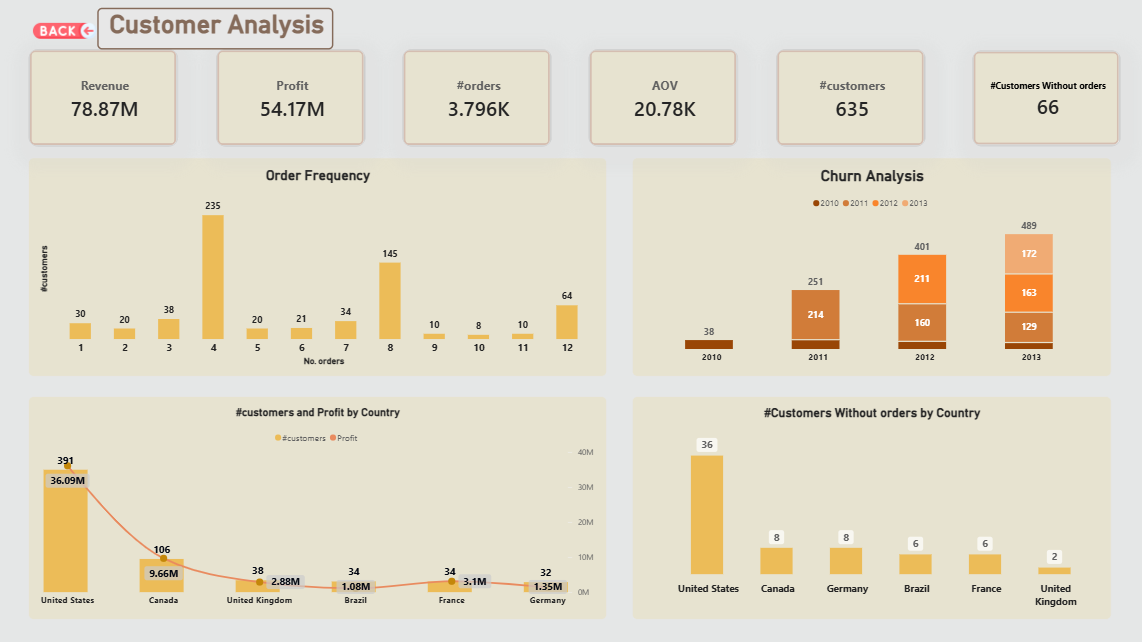

What the dashboard file says about the page in this screenshot:
{"tool":"powerbi","page":{"name":"Customer Analysis","canvas":[1920,1080],"ordinal":5},"visuals":[{"type":"columnChart","title":"Order Frequency","fields":{"Category":["D_Customers.No. orders"],"Y":["Calculations.#customers"]},"box":[54.3,260.6,951.9,360.1],"z":0},{"type":"columnChart","title":"Churn Analysis","fields":{"Category":["Calendar.Year"],"Series":["D_Customers.First order"],"Y":["Calculations.#customers"]},"box":[1047.8,260.6,789,360.1],"z":1000},{"type":"lineClusteredColumnComboChart","title":"#customers and Profit by Country","fields":{"Category":["D_Customers.CountryName"],"Y":["Calculations.#customers"],"Y2":["Calculations.Profit"]},"box":[54.3,655.1,951.9,367.4],"z":2000},{"type":"lineStackedColumnComboChart","title":"#Customers Without orders by Country","fields":{"Category":["D_Customers.CountryName"],"Y":["Calculations.#Customers Without orders"]},"box":[1047.8,655.1,789,367.4],"z":3000},{"type":"cardVisual","fields":{"Data":["Calculations.Revenue"]},"box":[54.3,83.2,246.1,161.1],"z":4000},{"type":"cardVisual","fields":{"Data":["Calculations.AOV"]},"box":[976.1,83.2,246.1,161.1],"z":5000},{"type":"cardVisual","fields":{"Data":["Calculations.#customers"]},"box":[1283.4,83.2,246.1,161.1],"z":6000},{"type":"cardVisual","fields":{"Data":["Calculations.#Customers Without orders"]},"box":[1607.6,84.4,244.9,158.5],"z":7000},{"type":"cardVisual","fields":{"Data":["Calculations.Profit"]},"box":[361.6,83.2,246.1,161.1],"z":8000},{"type":"cardVisual","fields":{"Data":["Calculations.#orders"]},"box":[668.9,83.2,246.1,161.1],"z":9000},{"type":"textbox","title":"Customer Analysis","box":[166.5,14.5,389.1,68.8],"z":10000},{"type":"image","box":[0,0,226.2,105],"z":10001}]}

Visuals, with their boxes in screenshot pixels (x1, y1, x2, y2), scaled from the page's 1920x1080 canvas onto the 1142x642 screenshot:
"Order Frequency" columnChart: (32, 155, 598, 369)
"Churn Analysis" columnChart: (623, 155, 1093, 369)
"#customers and Profit by Country" lineClusteredColumnComboChart: (32, 389, 598, 608)
"#Customers Without orders by Country" lineStackedColumnComboChart: (623, 389, 1093, 608)
cardVisual - Calculations.Revenue: (32, 49, 179, 145)
cardVisual - Calculations.AOV: (581, 49, 727, 145)
cardVisual - Calculations.#customers: (763, 49, 910, 145)
cardVisual - Calculations.#Customers Without orders: (956, 50, 1102, 144)
cardVisual - Calculations.Profit: (215, 49, 361, 145)
cardVisual - Calculations.#orders: (398, 49, 544, 145)
"Customer Analysis" textbox: (99, 9, 330, 50)
image: (0, 0, 135, 62)
